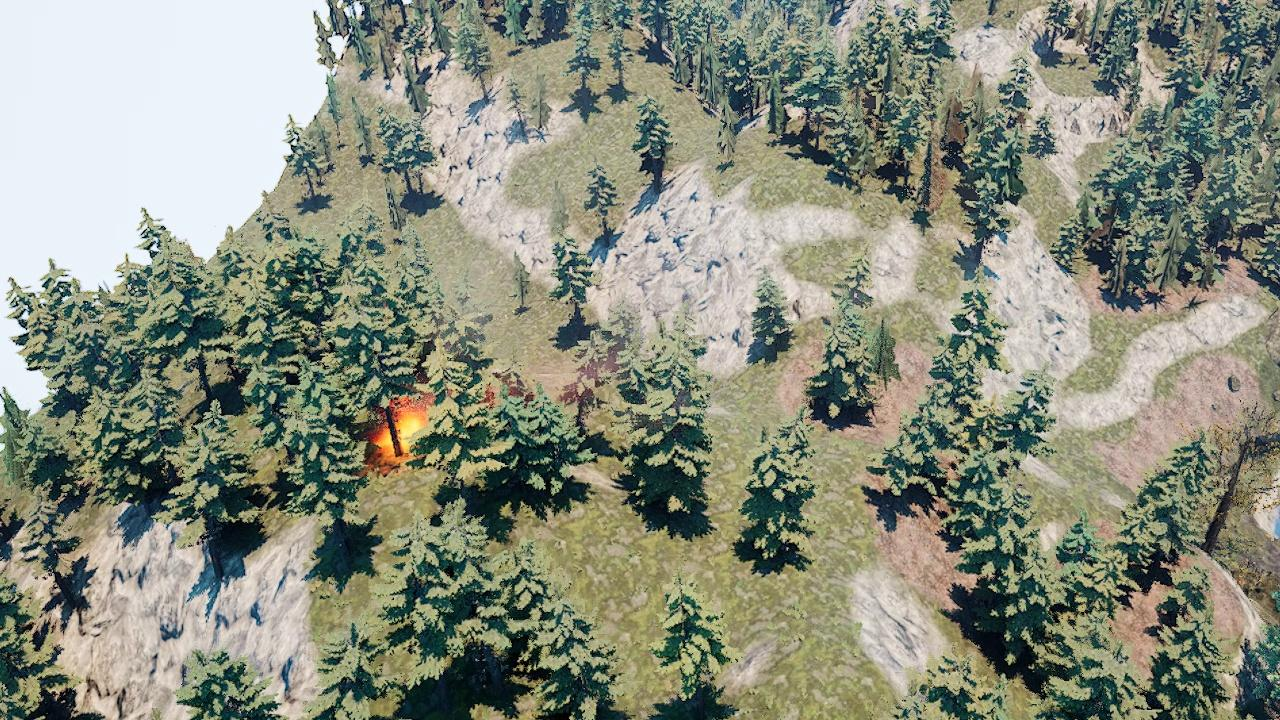fire: (374, 407, 426, 461)
